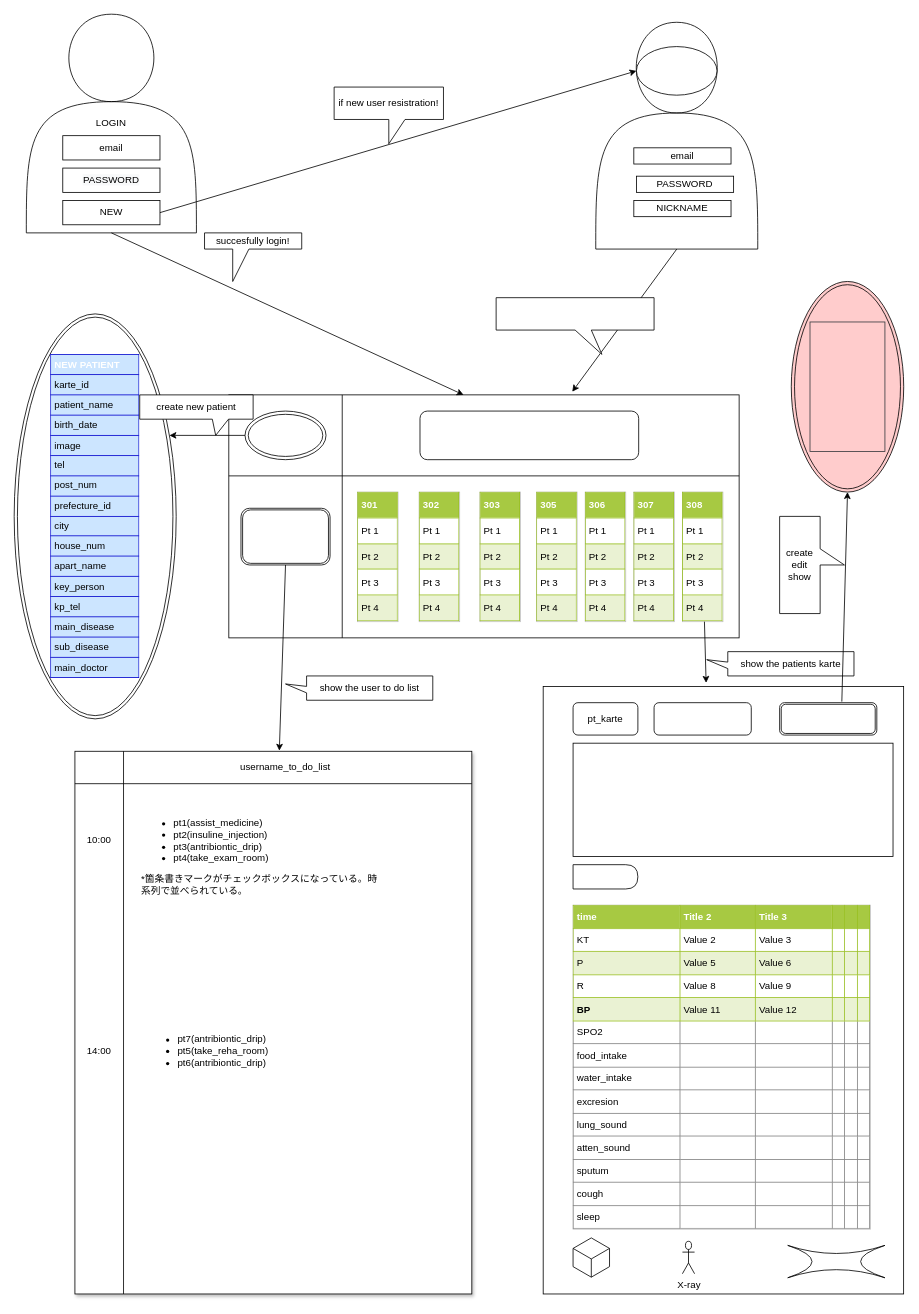
This 919x1314 diagram has some shape labels left out. Each missing label, with the centre of its shape:
basic_info: the point at 702,718
blood tests: the point at 591,1257
entlassen: the point at 836,1261
NEW USER: the point at 676,70
new_patient_adm: the point at 285,435
period: the point at 605,876
succesfully resistration ! && login!: the point at 574,325
time test medicine patient_id: the point at 847,386
treatments: the point at 828,718
User_to_do_list: the point at 285,536
vital_signs_line_graph: the point at 732,799
WORD_INFO: the point at 529,435
